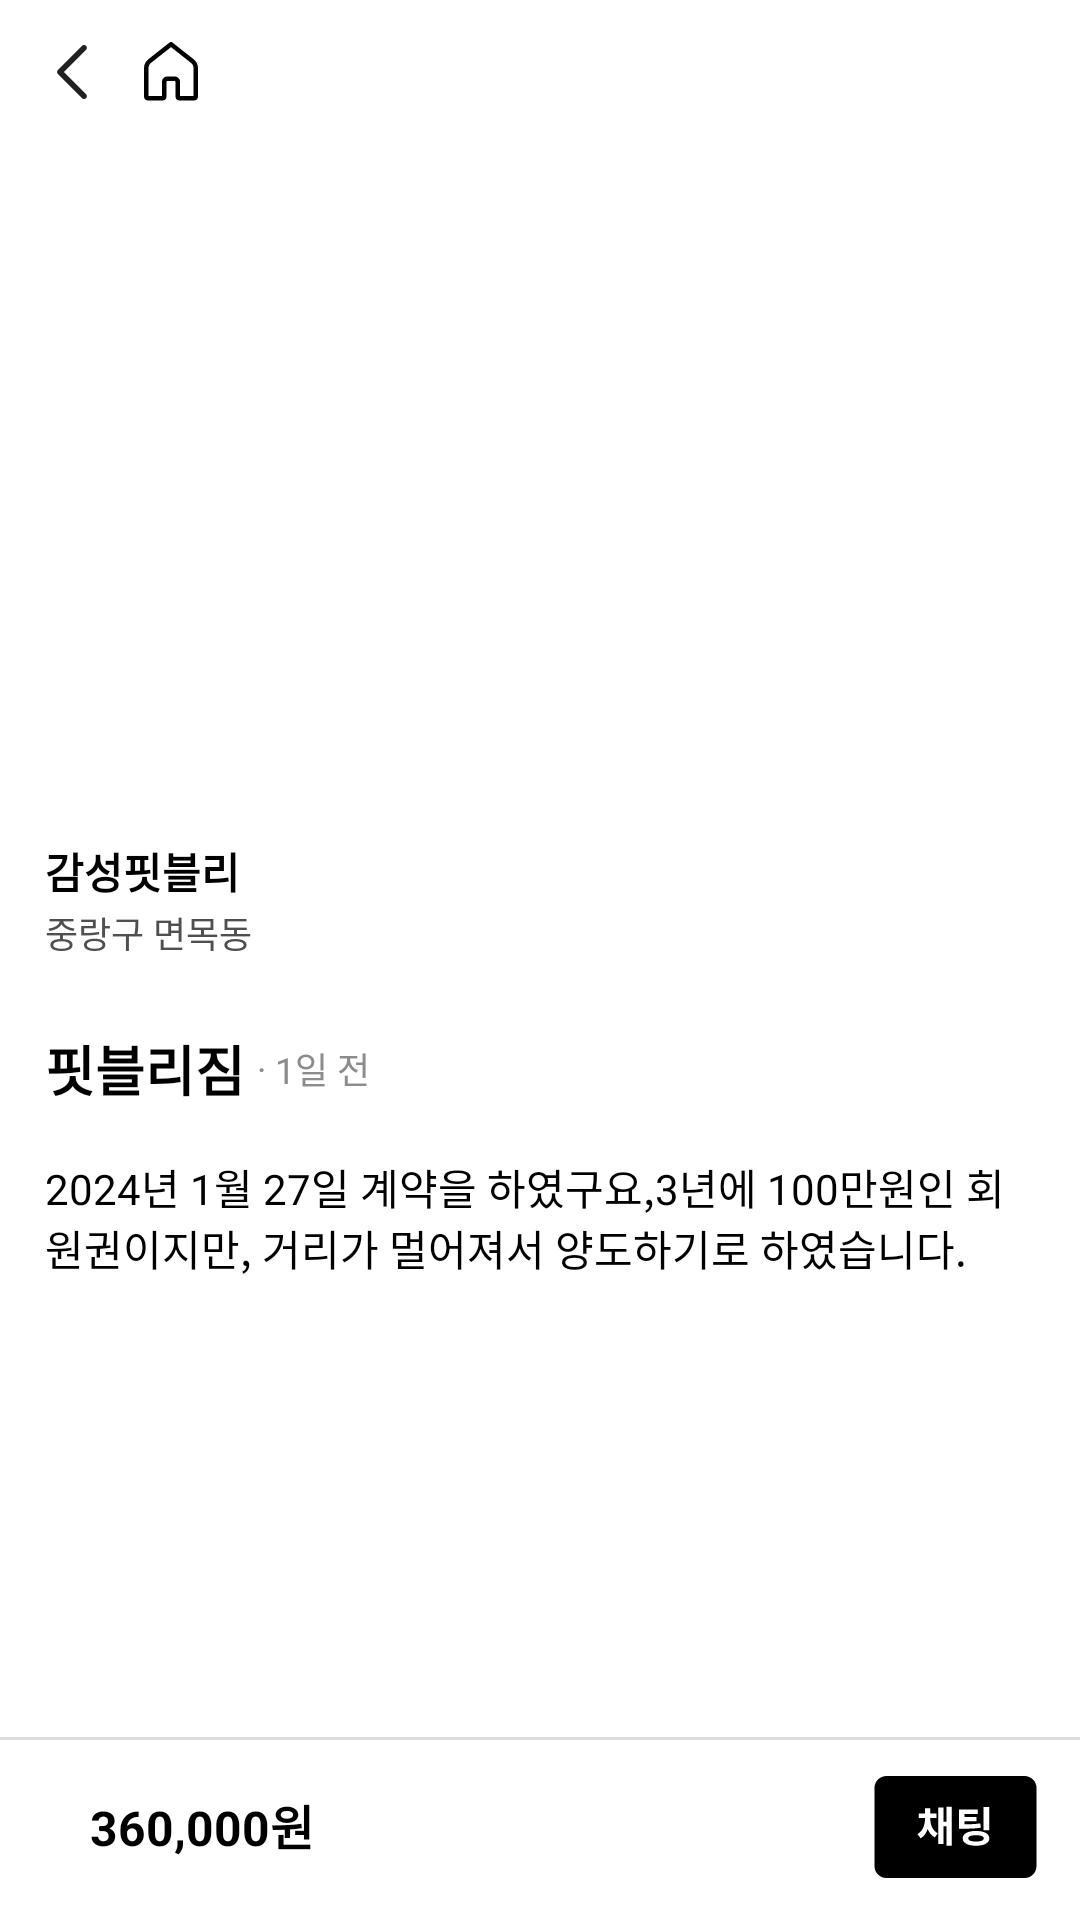

Icons on this 1080×1920 Android screen, each with the point to tap as [x,y]:
homesvg: [171,71]
previous: [72,72]
